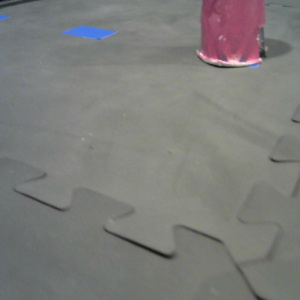Right: (195, 1, 269, 67)
